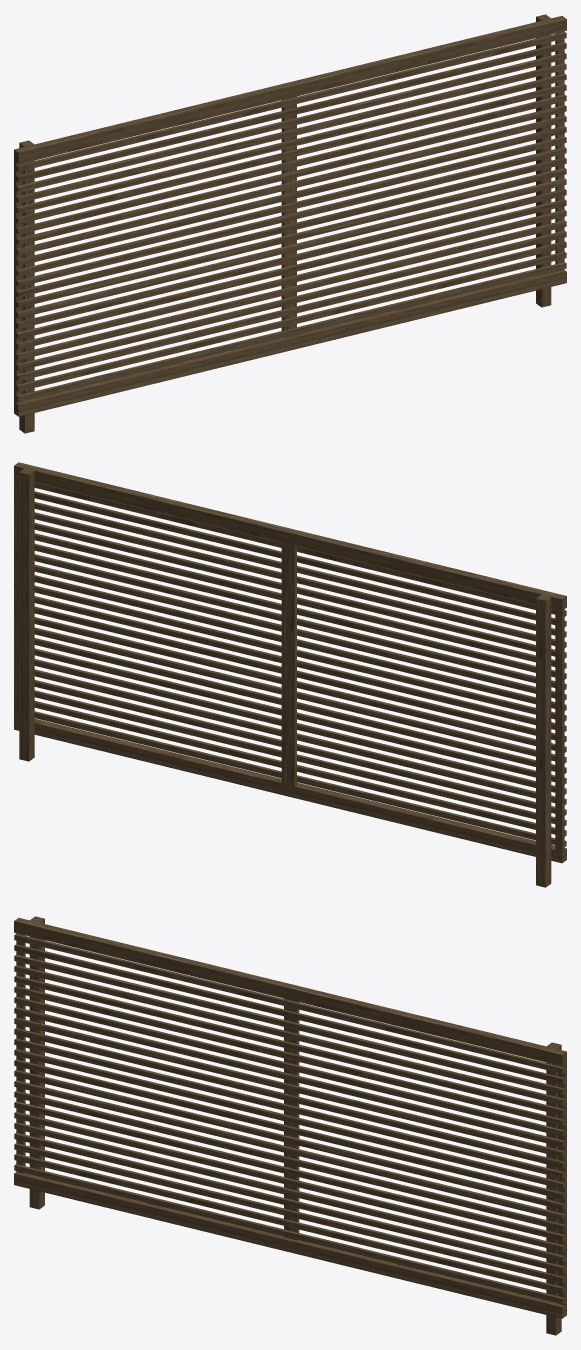
File: EAFsudarehosogoushi_w1998-h920_brownebony.fbx
The picture shows the model from 3 angles, top to bottom: view 1: azimuth 30°, elevation 25°; view 2: azimuth 150°, elevation 25°; view 3: azimuth 330°, elevation 25°; orthographic projection.
Visible parts, largest first — view 1: EAFsudarehosogoushi_w1998-h920_brownebony; view 2: EAFsudarehosogoushi_w1998-h920_brownebony; view 3: EAFsudarehosogoushi_w1998-h920_brownebony.
Boxes of the visible parts, left/top/right/bottom form: EAFsudarehosogoushi_w1998-h920_brownebony: left=14, top=14, right=566, bottom=433; EAFsudarehosogoushi_w1998-h920_brownebony: left=14, top=462, right=566, bottom=887; EAFsudarehosogoushi_w1998-h920_brownebony: left=14, top=916, right=566, bottom=1335.
Size of the model in its own units: 200 by 100 by 6.5.
Materials: 1 (1 with a texture image).
